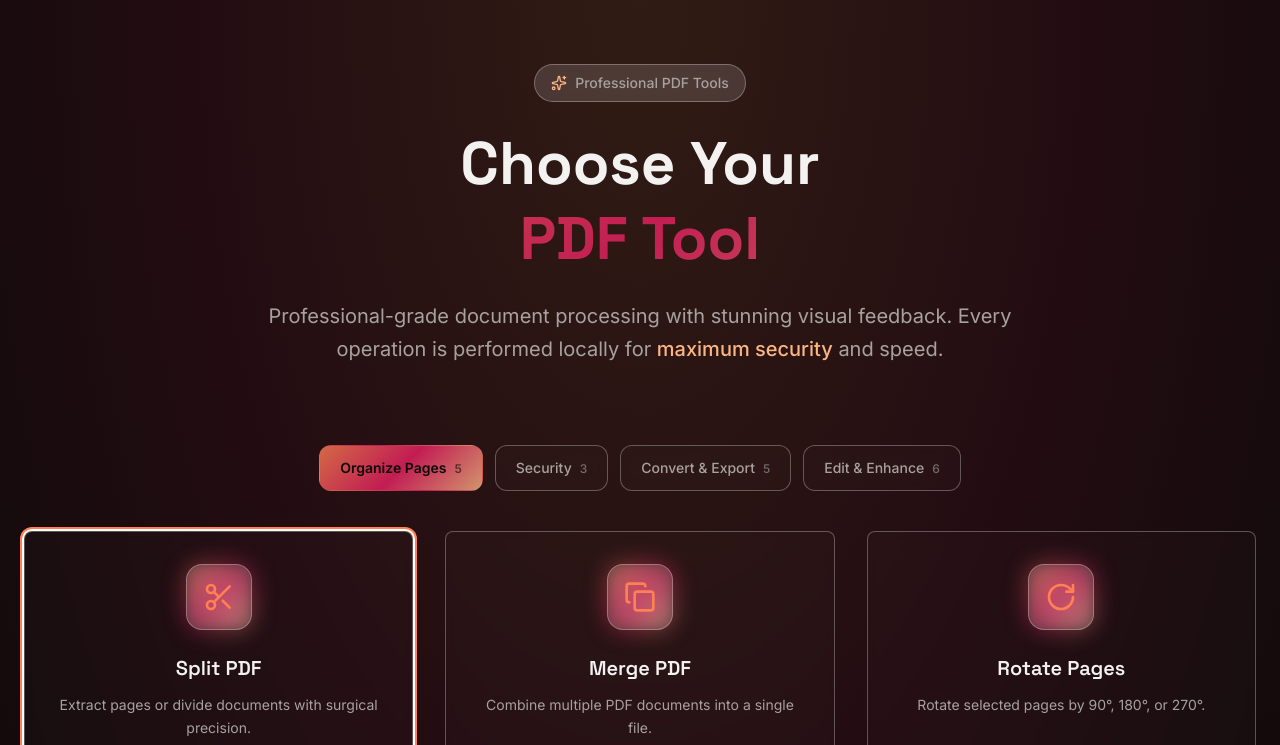
Test: GlassDashboard (T-11 / P2-23 / F-23) › reaches every card by Tab and activates on Enter and Space
This screenshot has width=1280, height=745.
Press Enter
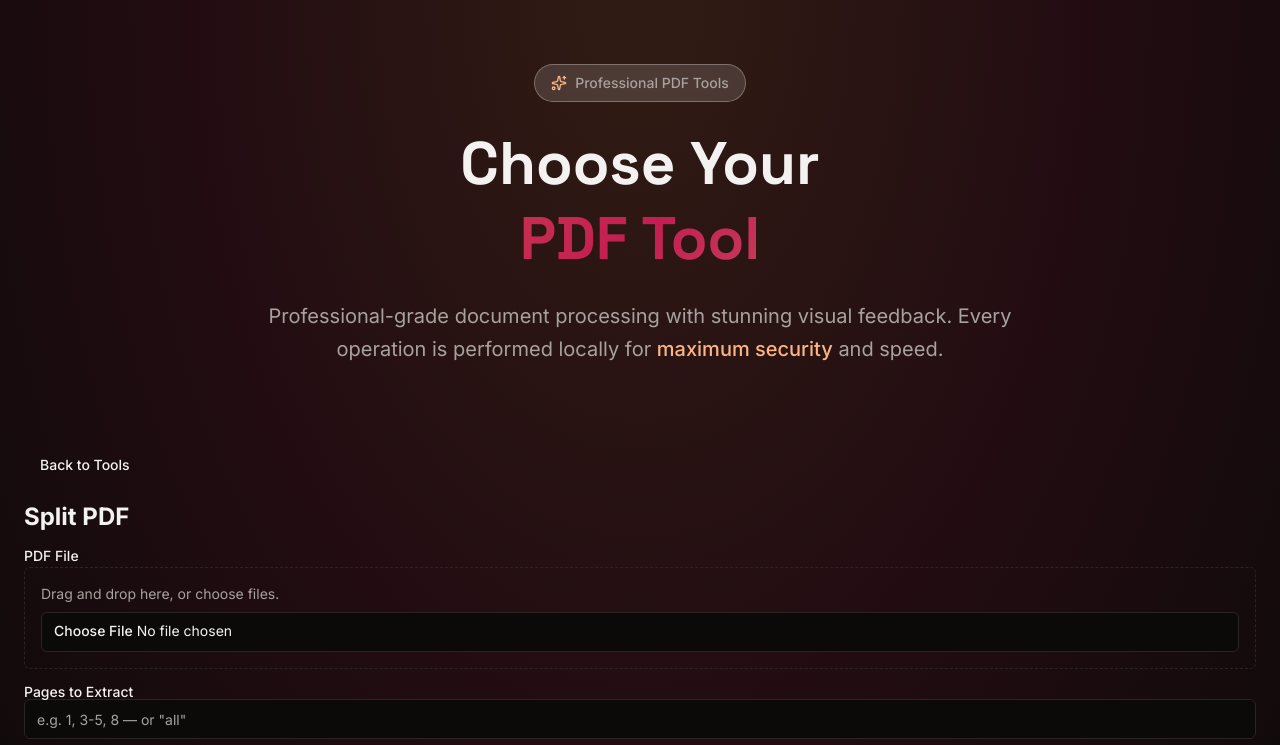
Result: the button "Back to Tools" is shown
Result: the heading "Split PDF" is shown at [24,502,129,531]
Click the button "Back to Tools" at coordinates (85, 465), box [24,445,146,485]
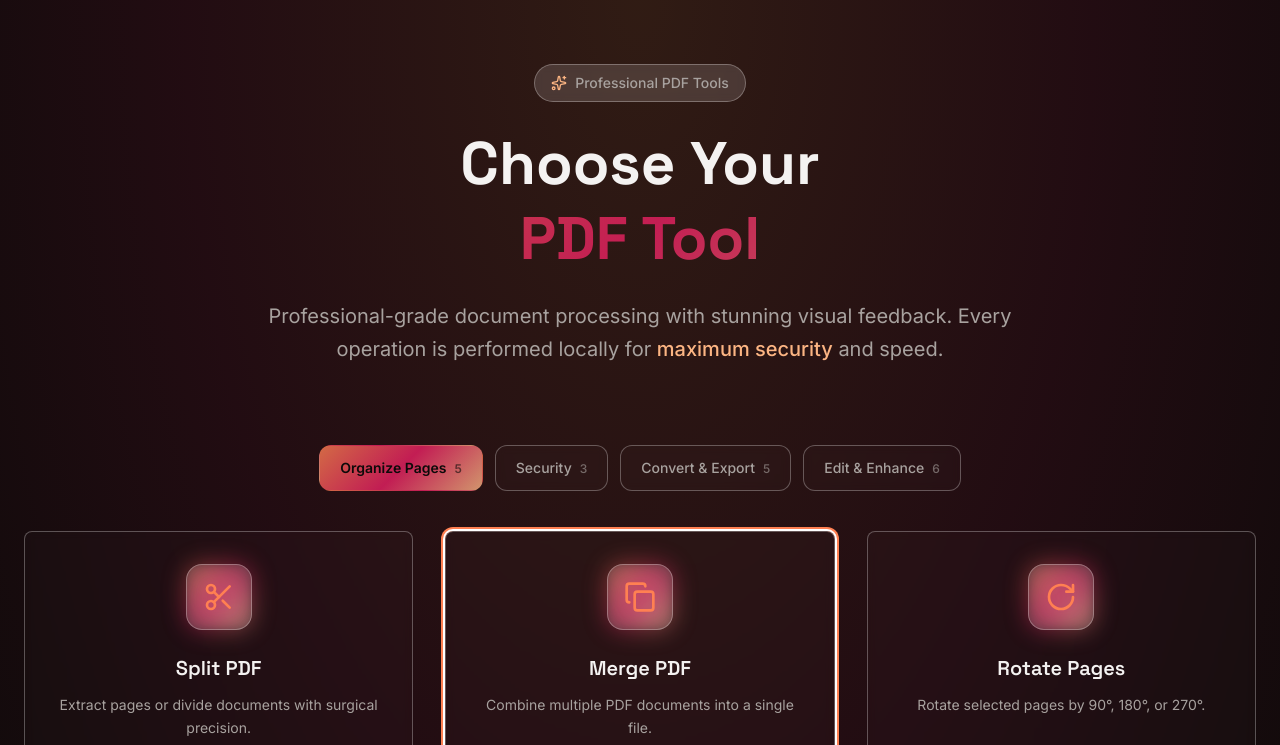
Type keys " "
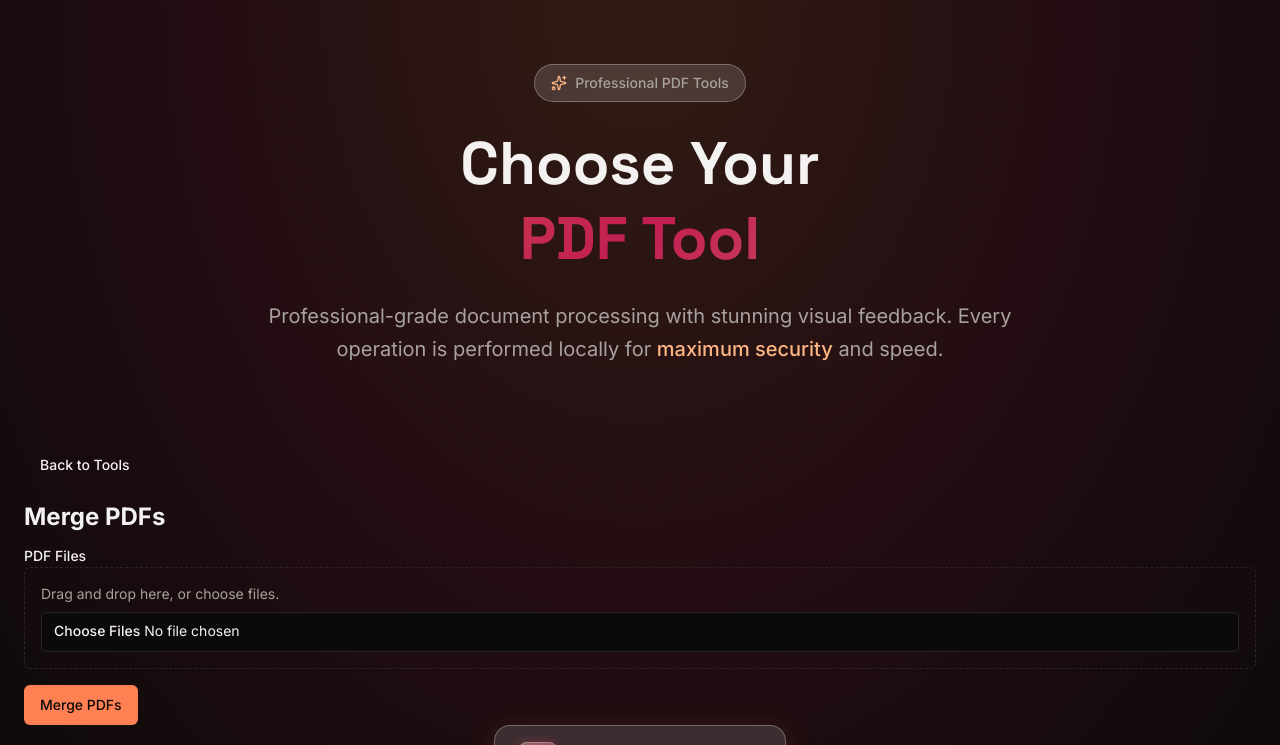
Result: the button "Back to Tools" is shown at [24,445,146,485]
Result: the heading "Merge PDFs" is shown at [24,502,165,531]
